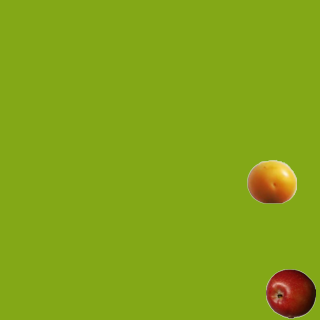Apple Braeburn: (265, 268, 315, 318)
Cherry Wax Yellow: (246, 156, 296, 206)
